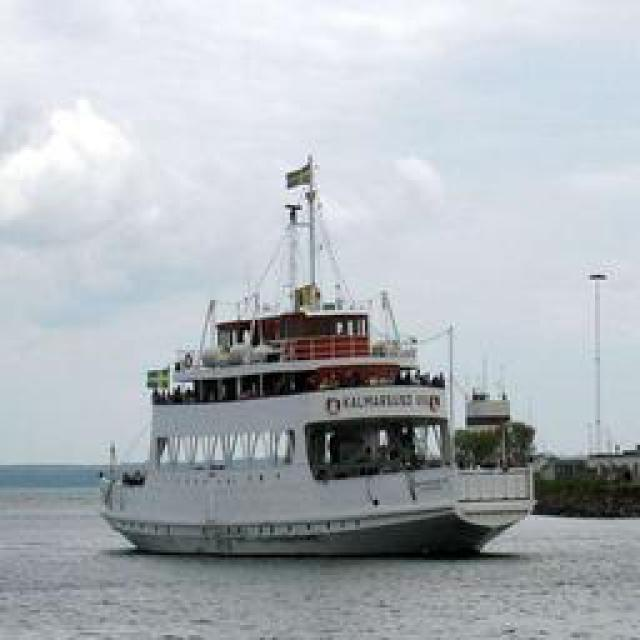Ship: (99, 140, 534, 565)
